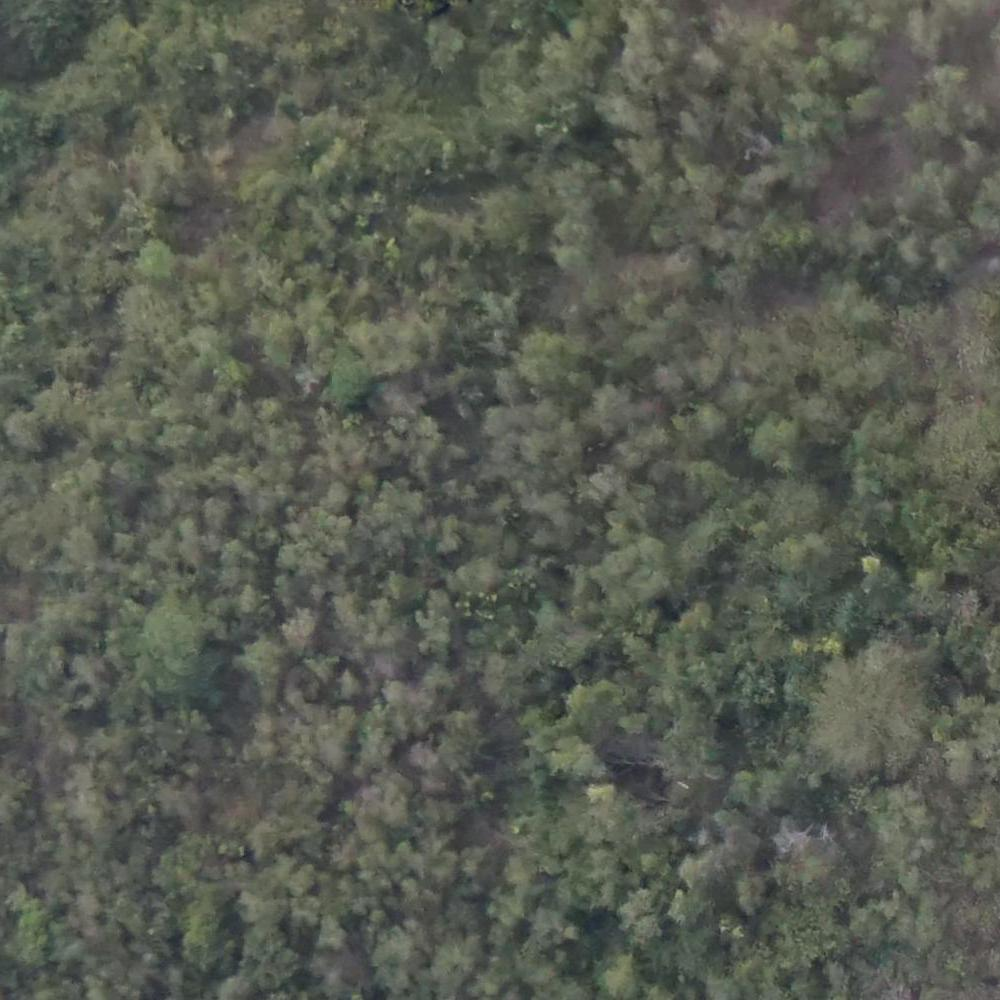tree: (814, 657, 920, 770), (277, 506, 351, 576), (146, 596, 214, 667), (135, 136, 208, 202), (776, 832, 838, 895), (544, 35, 608, 91), (480, 191, 538, 249), (538, 720, 597, 776), (874, 796, 933, 850), (370, 483, 424, 542), (751, 407, 804, 466), (520, 335, 574, 390), (826, 27, 879, 78), (548, 221, 607, 266), (398, 416, 446, 471), (326, 350, 374, 403), (623, 886, 667, 936), (356, 600, 398, 652), (424, 19, 469, 67), (133, 238, 173, 274)
